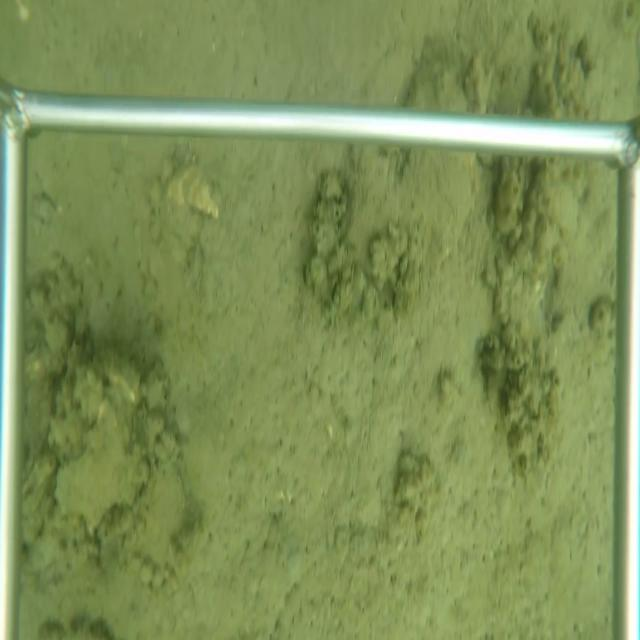Oyster-Indeterminate: (396, 150, 479, 262), (123, 467, 193, 593)
